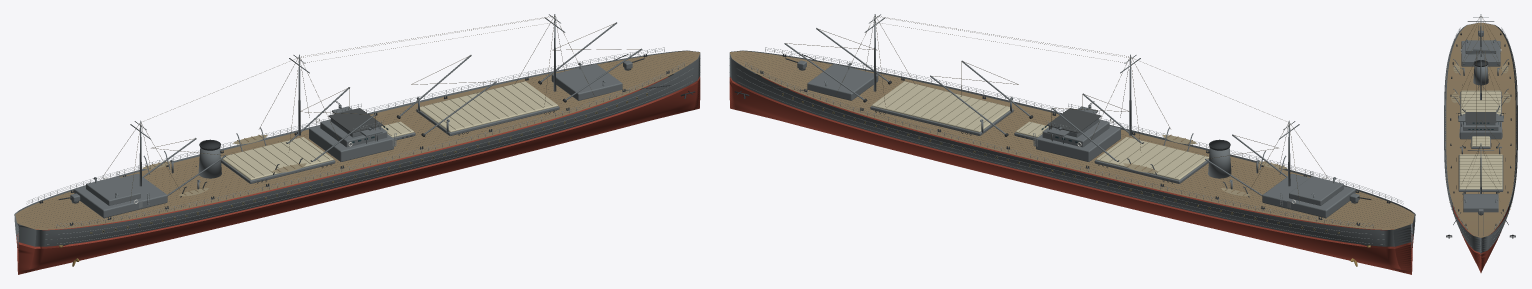
3 renders of one model, left to right at view 1: azimuth 30°, elevation 25°; view 2: azimuth 150°, elevation 25°; view 3: azimuth 270°, elevation 25°, orthographic. The views are drawn at different scales.
Visible parts, largest first — view 1: Hull_Main, Main_Deck, Forward_Giant_Hatch_Canvas, Aft_Giant_Hatch_Canvas, Aft_Deckhouse, Fore_Deckhouse, Bridge_Lower, Aft_Upper_House, Open_Bridge_Deck, Bridge_Mid, Funnel, Shell_Strake_0.65_-1 (+4 smaller); view 2: Hull_Main, Main_Deck, Forward_Giant_Hatch_Canvas, Aft_Giant_Hatch_Canvas, Aft_Deckhouse, Fore_Deckhouse, Bridge_Lower, Aft_Upper_House, Open_Bridge_Deck, Bridge_Mid, Funnel, Shell_Strake_0.65_1 (+4 smaller); view 3: Main_Deck, Hull_Main, Forward_Giant_Hatch_Canvas, Aft_Giant_Hatch_Canvas, Fore_Deckhouse, Aft_Deckhouse, Aft_Upper_House, Bridge_Lower, Open_Bridge_Deck, Funnel, Forward_Giant_Hatch_Coaming, Bridge_Mid (+13 smaller).
Part boxes in pixels (x1,y1,x2,y2): Hull_Main: [14, 50, 700, 274]; Main_Deck: [15, 51, 699, 229]; Forward_Giant_Hatch_Canvas: [420, 81, 557, 132]; Aft_Giant_Hatch_Canvas: [221, 137, 333, 180]; Aft_Deckhouse: [74, 173, 167, 218]; Fore_Deckhouse: [551, 64, 622, 100]; Bridge_Lower: [309, 125, 393, 161]; Aft_Upper_House: [86, 176, 140, 205]; Open_Bridge_Deck: [328, 108, 383, 133]; Bridge_Mid: [320, 119, 387, 147]; Funnel: [198, 148, 221, 178]; Shell_Strake_0.65_-1: [45, 81, 692, 244]; Hull_Main: [729, 50, 1415, 274]; Main_Deck: [730, 51, 1414, 229]; Forward_Giant_Hatch_Canvas: [872, 81, 1009, 132]; Aft_Giant_Hatch_Canvas: [1096, 137, 1208, 180]; Aft_Deckhouse: [1262, 173, 1355, 218]; Fore_Deckhouse: [807, 64, 878, 100]; Bridge_Lower: [1036, 125, 1120, 161]; Aft_Upper_House: [1289, 176, 1343, 205]; Open_Bridge_Deck: [1046, 108, 1101, 133]; Bridge_Mid: [1042, 119, 1109, 147]; Funnel: [1208, 148, 1231, 178]; Shell_Strake_0.65_1: [737, 81, 1384, 244]; Main_Deck: [1446, 22, 1515, 237]; Hull_Main: [1444, 22, 1517, 272]; Forward_Giant_Hatch_Canvas: [1459, 154, 1502, 189]; Aft_Giant_Hatch_Canvas: [1461, 90, 1500, 115]; Fore_Deckhouse: [1463, 194, 1498, 212]; Aft_Deckhouse: [1461, 41, 1500, 66]; Aft_Upper_House: [1465, 40, 1496, 53]; Bridge_Lower: [1460, 115, 1501, 139]; Open_Bridge_Deck: [1465, 112, 1496, 122]; Funnel: [1473, 65, 1488, 85]; Forward_Giant_Hatch_Coaming: [1458, 155, 1503, 191]; Bridge_Mid: [1463, 114, 1498, 130].
Size of the model in its own units: 13754 by 2920 by 1962.
